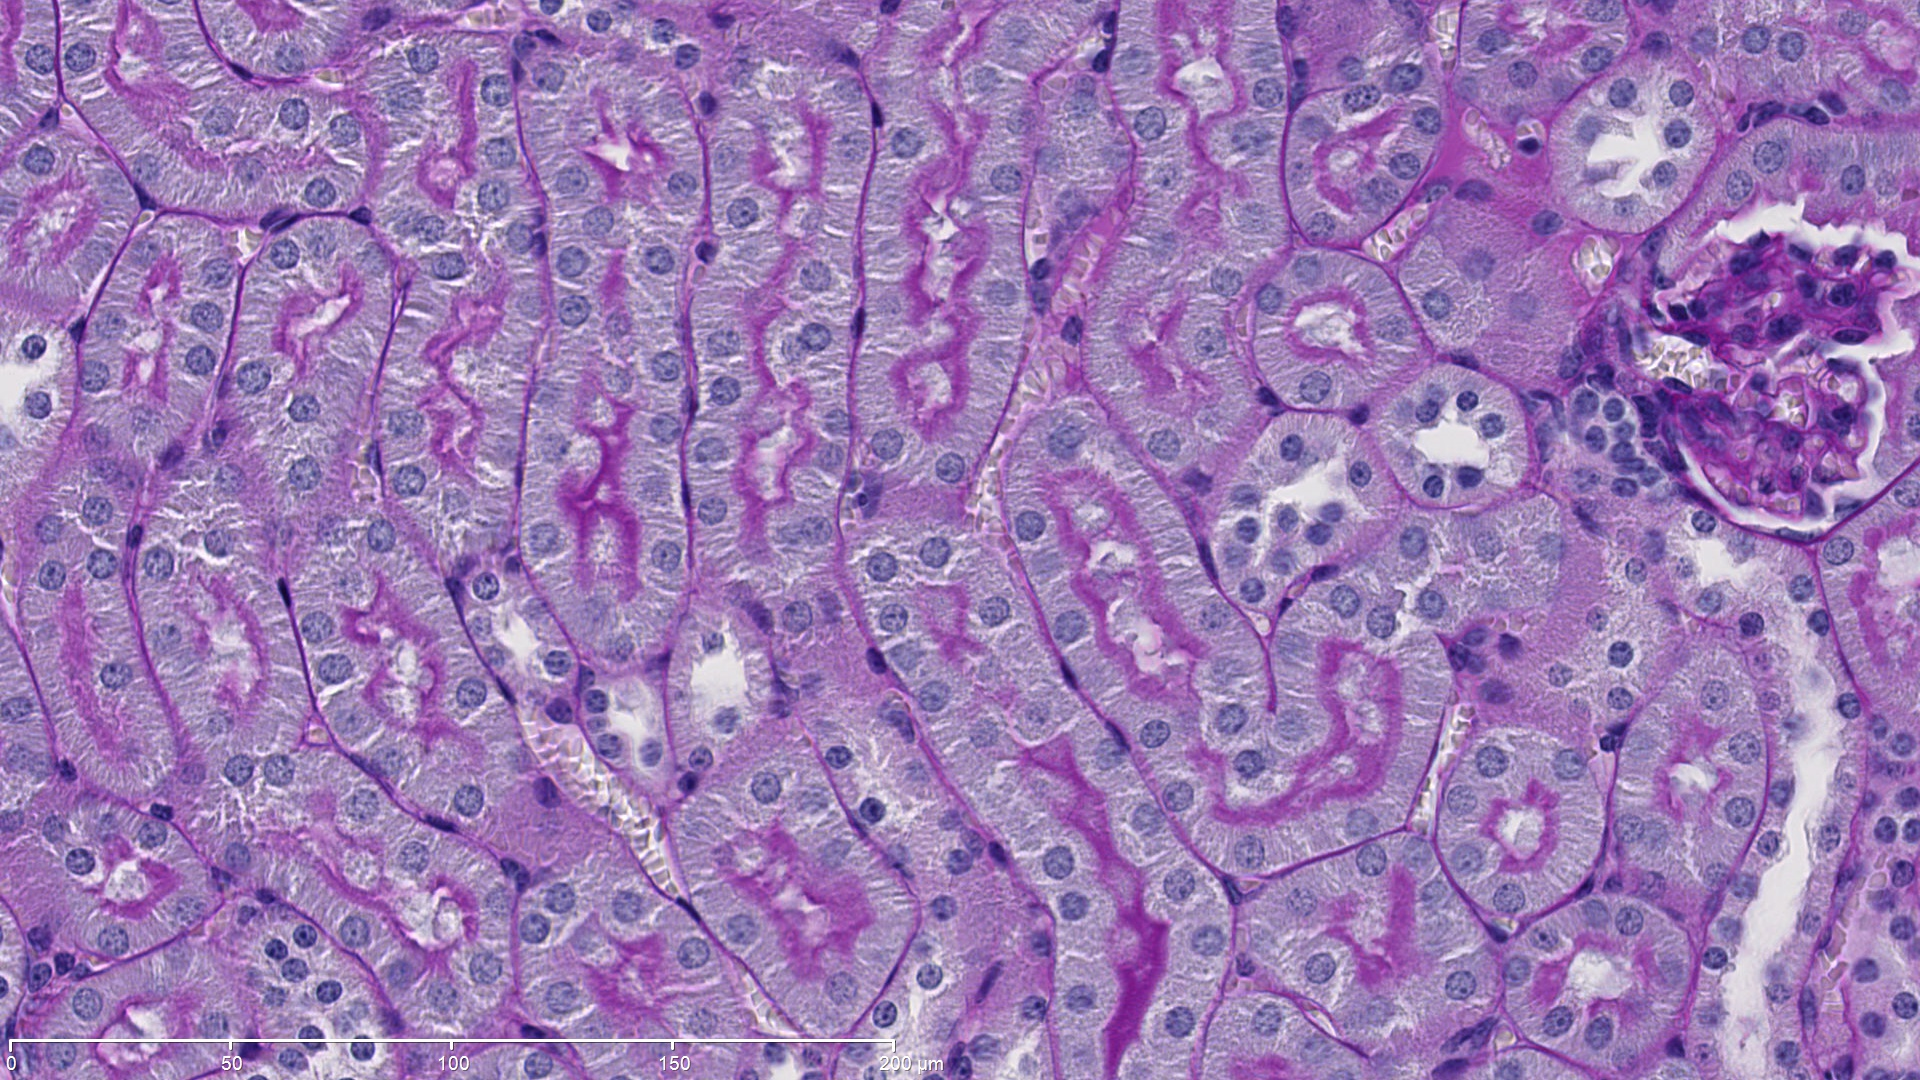Glomeruli: (1656, 196, 1917, 535)
